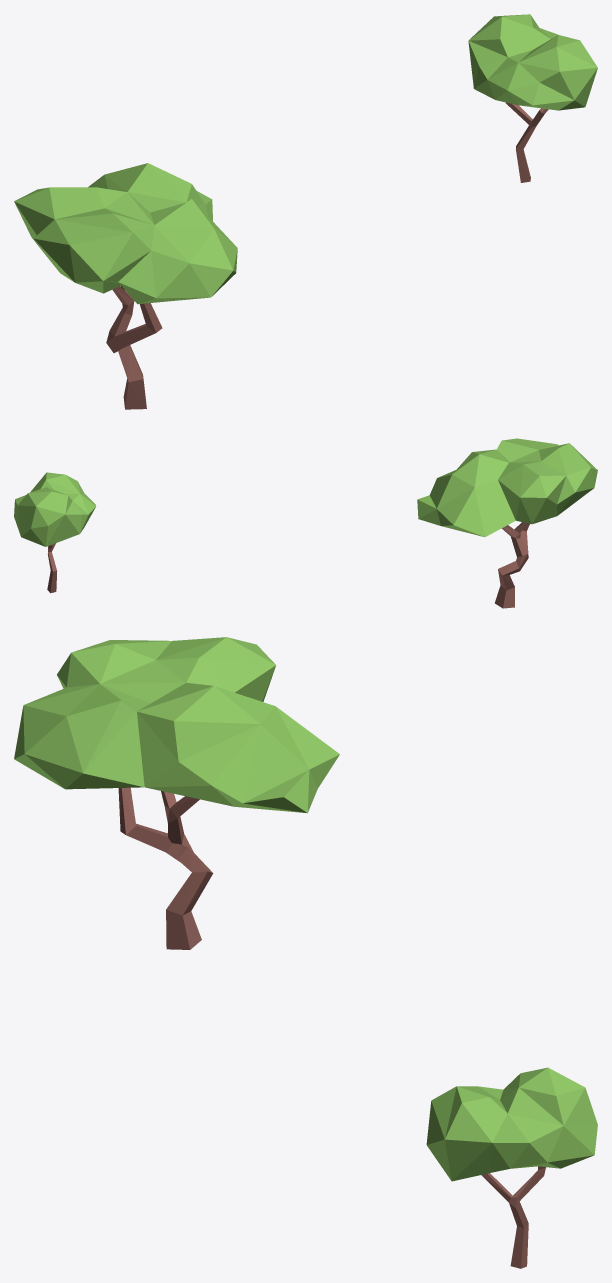
File: pohon .fbx
The picture shows the model from 3 angles, top to bottom: view 1: azimuth 30°, elevation 25°; view 2: azimuth 150°, elevation 25°; view 3: azimuth 270°, elevation 25°; orthographic projection. The views are drawn at different scales.
Visible parts, largest first — view 1: Cube.162, Icosphere.001; view 2: Cube.162, Icosphere.001; view 3: Cube.162, Icosphere.001.
Boxes of the visible parts, x1,y1,x2,y2 form: Cube.162: (14, 163, 237, 409); Icosphere.001: (468, 14, 597, 182); Cube.162: (417, 438, 597, 608); Icosphere.001: (14, 472, 96, 593); Cube.162: (14, 637, 339, 949); Icosphere.001: (426, 1067, 597, 1268).
Size of the model in its own units: 9525 by 3110 by 5820.
